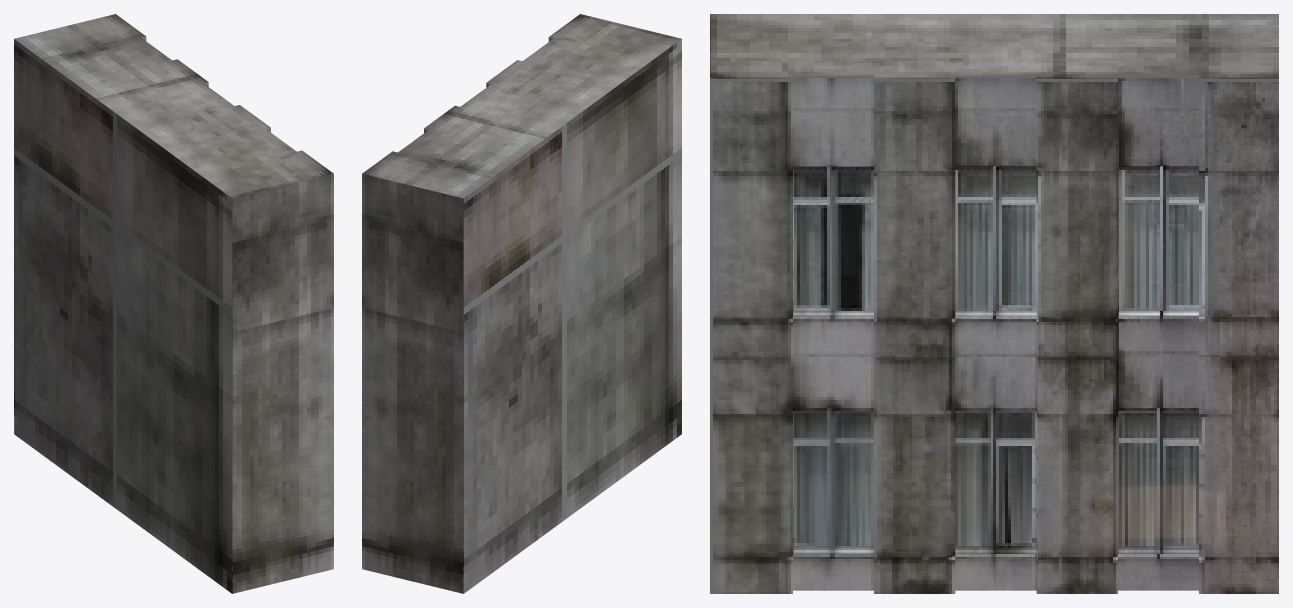
Rendered from modular_apartementgrey1.glb.
The picture shows the model from 3 angles, left to right: view 1: azimuth 30°, elevation 25°; view 2: azimuth 150°, elevation 25°; view 3: azimuth 270°, elevation 25°; orthographic projection. The views are drawn at different scales.
Parts seen in each view (by area): view 1: modular_building_grey1; view 2: modular_building_grey1; view 3: modular_building_grey1.
Boxes of the visible parts, bbox=[...] form: modular_building_grey1: bbox=[14, 14, 333, 593]; modular_building_grey1: bbox=[362, 14, 681, 593]; modular_building_grey1: bbox=[710, 14, 1278, 593].
Bounding box in the file's own units: 1.34 × 4.98 × 4.98.
1 material, 1 textured.
